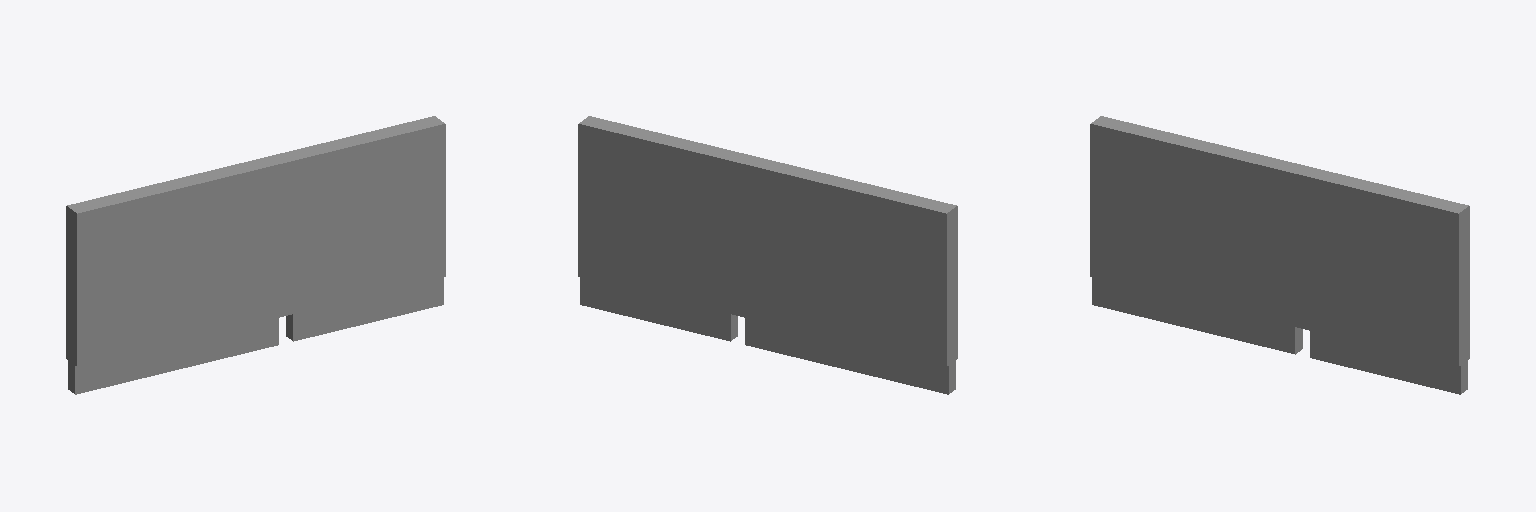
Rendered from ram.obj.
3 renders of one model, left to right at view 1: azimuth 30°, elevation 25°; view 2: azimuth 150°, elevation 25°; view 3: azimuth 330°, elevation 25°, orthographic.
Visible parts, largest first — view 1: Cube; view 2: Cube; view 3: Cube.
Part boxes in pixels (bbox=[...]): Cube: bbox=[66, 116, 445, 394]; Cube: bbox=[578, 116, 957, 394]; Cube: bbox=[1090, 116, 1469, 394].
Size of the model in its own units: 7.6 by 3.6 by 0.3851.